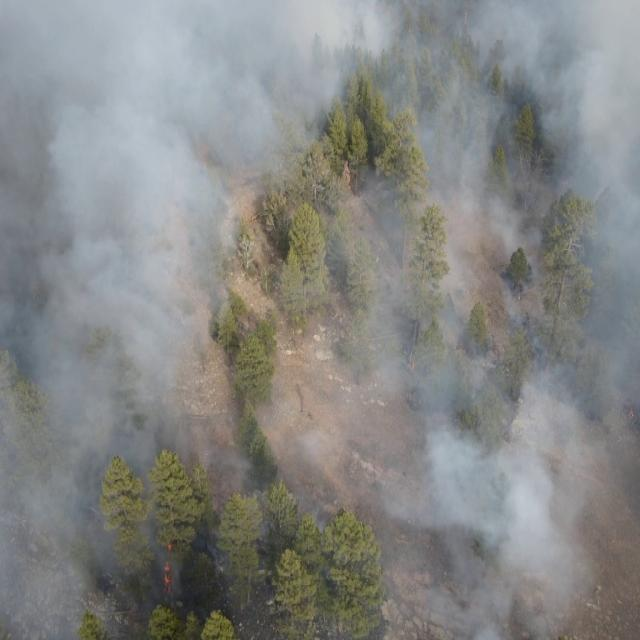fire: (160, 541, 178, 594), (408, 353, 420, 373), (626, 404, 636, 421)
smoke: (0, 0, 640, 640)
